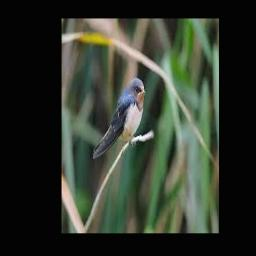Swallow: (91, 78, 145, 159)
